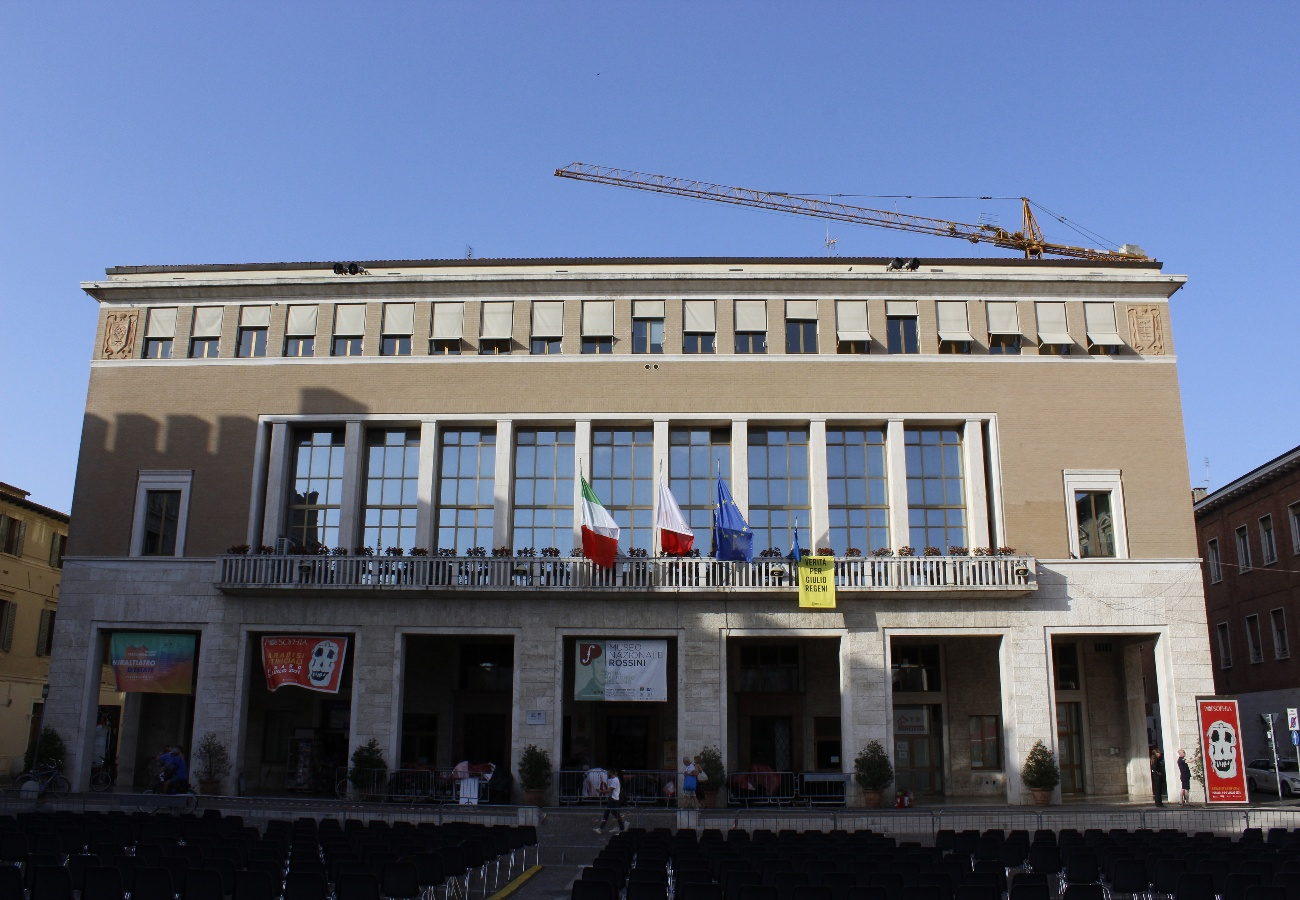Palazzo Comunale: (101, 270, 1172, 807)
